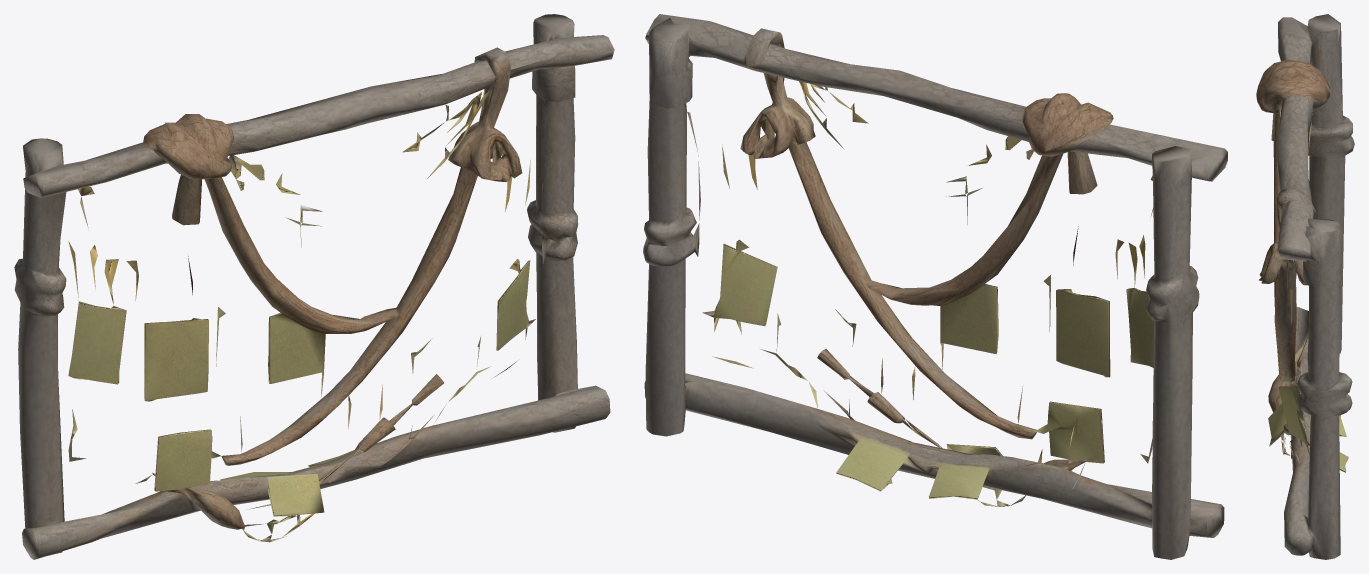
File: nets.glb
3 renders of one model, left to right at view 1: azimuth 30°, elevation 25°; view 2: azimuth 150°, elevation 25°; view 3: azimuth 270°, elevation 25°, orthographic. The views are drawn at different scales.
Size of the model in its own units: 1.9 by 1.39 by 0.351.
1 material, 1 textured.
